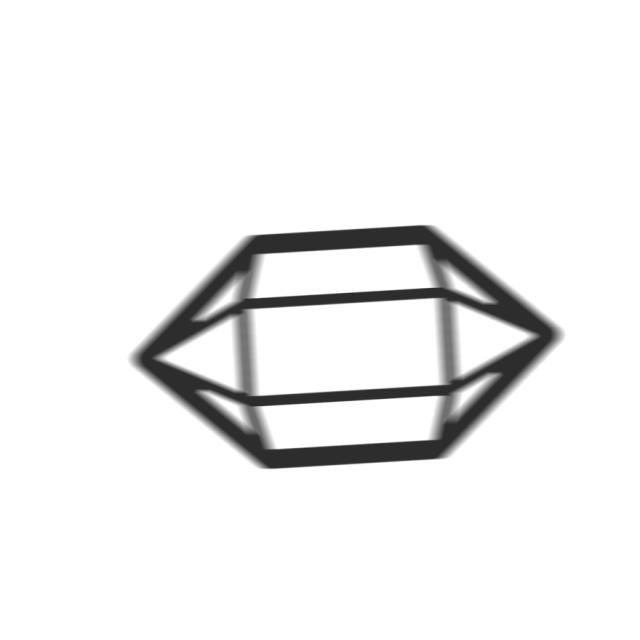crystal: (119, 218, 576, 483)
